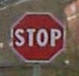stop: (9, 9, 65, 63)
